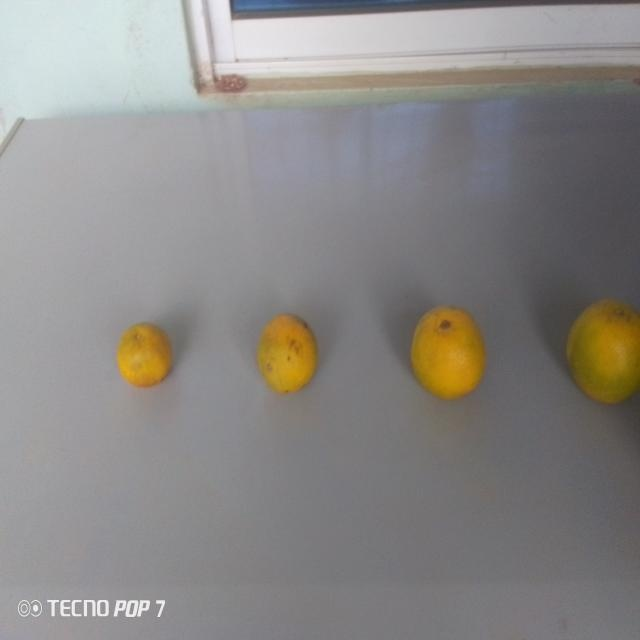agrume: (399, 296, 508, 409), (554, 296, 640, 419), (251, 309, 331, 409), (107, 312, 185, 405)
